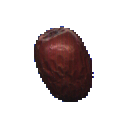gd: (21, 16, 110, 107)
